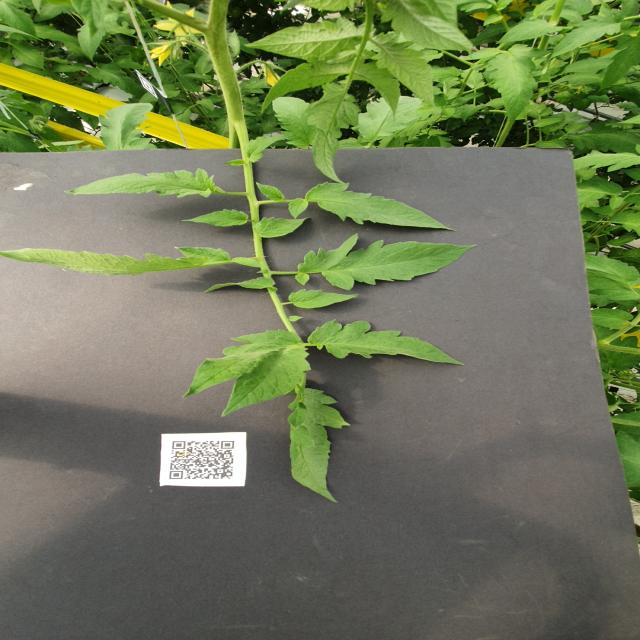Healthy Leaf: (296, 234, 477, 291), (286, 183, 457, 232), (182, 329, 300, 398), (286, 384, 352, 505), (305, 320, 466, 369), (462, 45, 553, 127), (1, 245, 234, 277), (221, 347, 312, 418), (308, 82, 363, 185), (69, 167, 219, 203), (241, 15, 361, 58), (376, 41, 441, 111), (549, 15, 624, 62), (357, 97, 425, 142), (584, 253, 640, 303), (97, 103, 156, 150), (598, 36, 640, 92), (274, 98, 316, 150), (87, 64, 149, 99), (496, 19, 566, 46), (573, 150, 640, 174), (576, 180, 627, 211), (288, 289, 361, 310), (246, 133, 295, 164), (1, 1, 38, 39), (253, 217, 313, 239), (184, 209, 252, 228), (204, 278, 279, 295), (77, 23, 107, 65), (591, 308, 635, 331), (12, 45, 49, 72), (255, 183, 287, 202)
